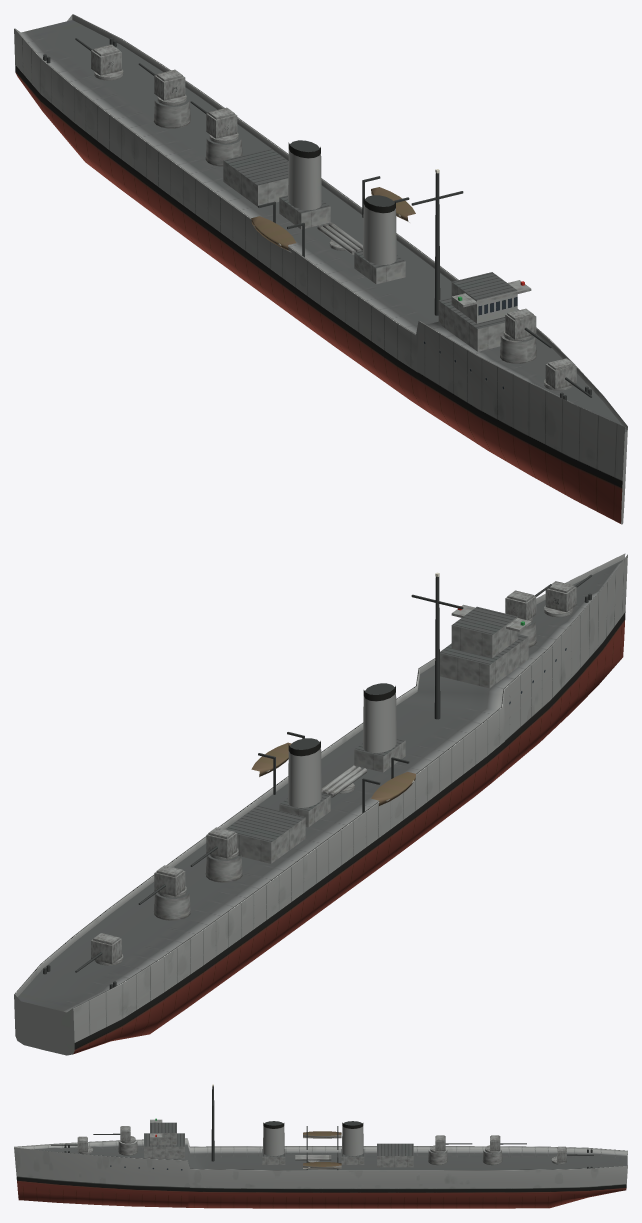
File: escort.glb
3 views of the same model, one above another, from view 1: azimuth 30°, elevation 25°; view 2: azimuth 150°, elevation 25°; view 3: azimuth 270°, elevation 25° (orthographic). The views are drawn at different scales.
Parts seen in each view (by area): view 1: hull, turret_3, turret_4, turret_5, turret_2, turret_1, boat_right; view 2: hull, turret_1, turret_3, turret_4, turret_5, turret_2, boat_right; view 3: hull, boat_right, boat_left, turret_1, turret_3, turret_4, turret_2, turret_5.
Part boxes in pixels (<box>): hull: <box>14,14,627,524</box>; turret_3: <box>206,107,238,143</box>; turret_4: <box>154,69,186,105</box>; turret_5: <box>91,44,123,80</box>; turret_2: <box>503,308,536,340</box>; turret_1: <box>544,358,576,390</box>; boat_right: <box>251,216,296,251</box>; hull: <box>14,553,627,1055</box>; turret_1: <box>544,581,576,617</box>; turret_3: <box>206,827,238,859</box>; turret_4: <box>154,865,186,897</box>; turret_5: <box>91,933,123,965</box>; turret_2: <box>505,590,536,622</box>; boat_right: <box>371,772,415,805</box>; hull: <box>14,1084,627,1208</box>; boat_right: <box>303,1131,341,1138</box>; boat_left: <box>303,1162,341,1169</box>; turret_1: <box>77,1136,93,1154</box>; turret_3: <box>430,1135,445,1153</box>; turret_4: <box>485,1135,500,1153</box>; turret_2: <box>120,1126,135,1143</box>; turret_5: <box>551,1146,566,1164</box>.
Size of the model in its own units: 16.35 by 24.77 by 119.
5 materials, 5 textured.
